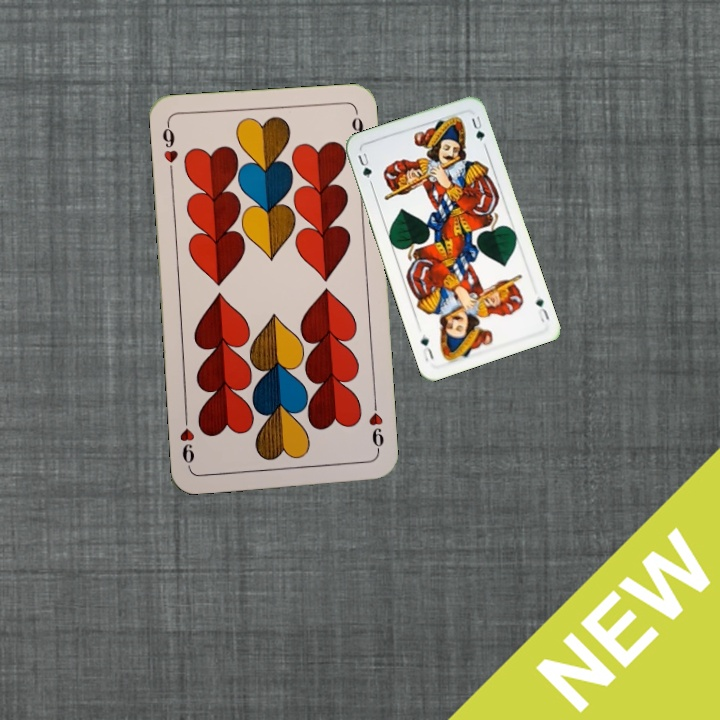GU: (354, 147, 374, 181), (532, 292, 552, 325)
H9: (158, 119, 180, 179), (365, 397, 386, 457)
